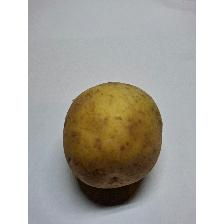Kartoffel: (57, 78, 165, 191)
